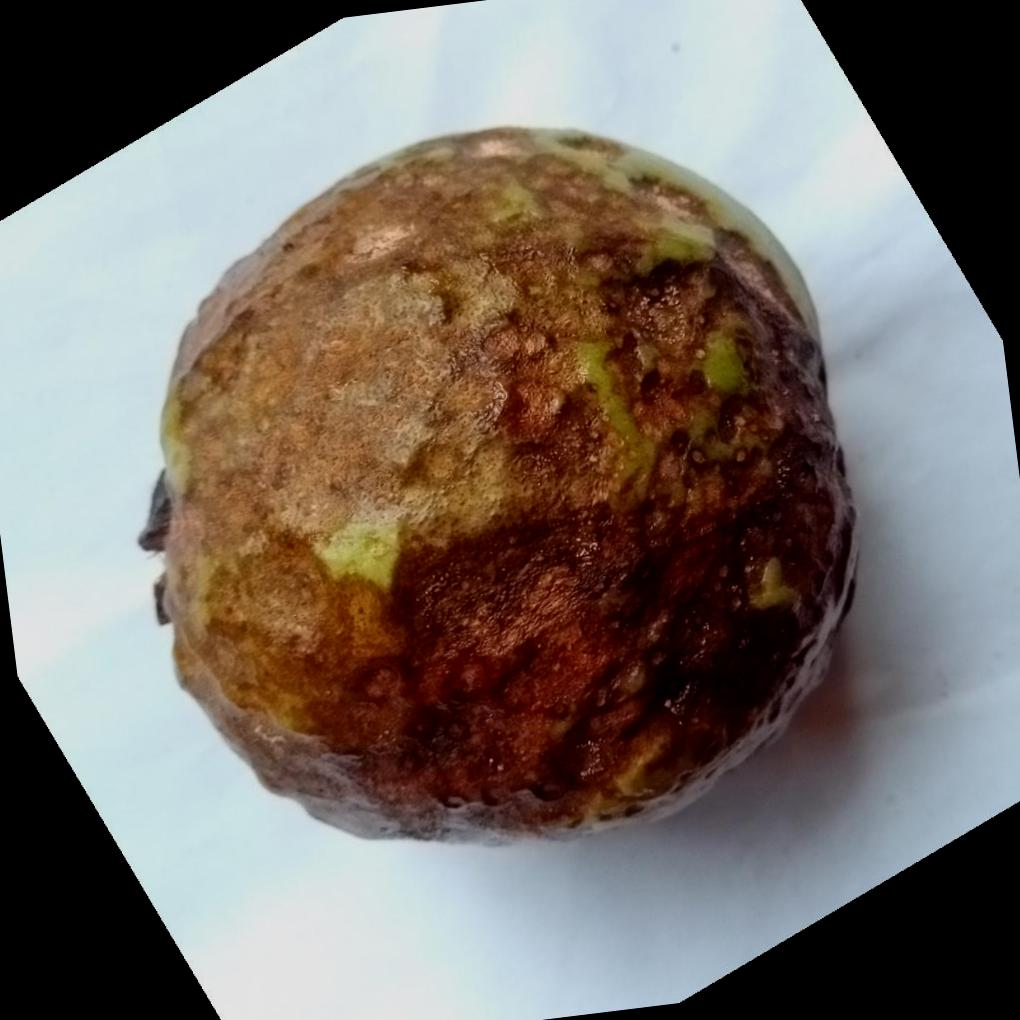FreshOrange: (139, 121, 858, 846)
